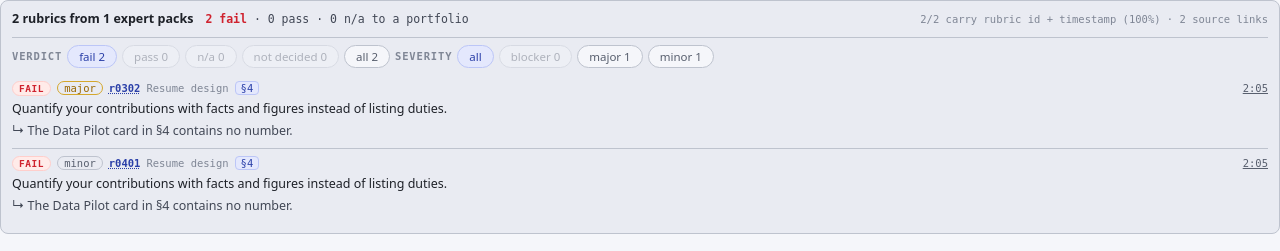
RubricVerdicts › filters failures by severity
Expected: the button "r0302" is shown, [109,82,140,94]
Expected: the button "r0401" is shown, [109,157,140,169]
Step 1. Click the button "minor 1" → point(681, 56), box [648,45,714,68]
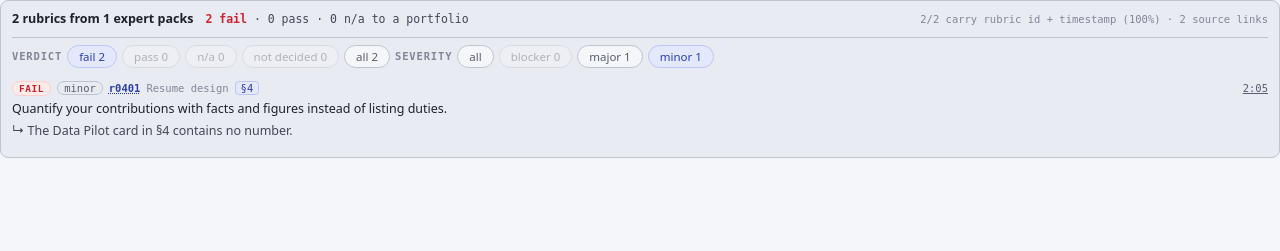
Expected: the button "r0401" is shown, [109,82,140,94]
Now the button "r0302" is gone
